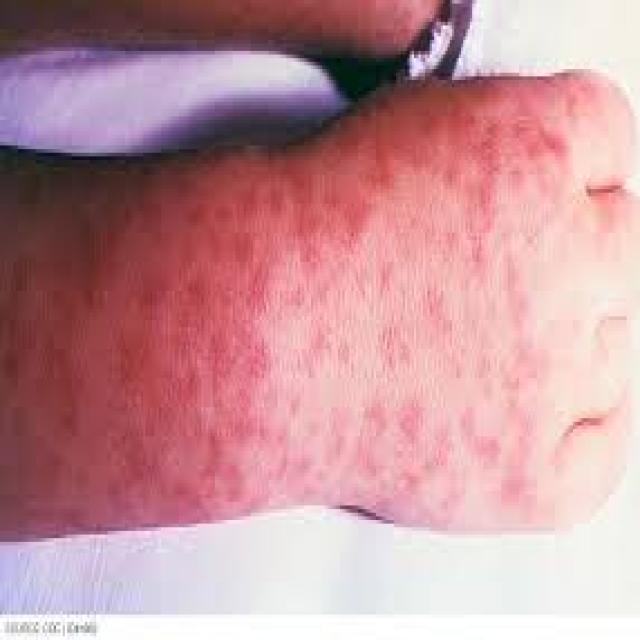kene: (242, 264, 283, 323), (467, 415, 507, 475), (242, 330, 275, 388)
